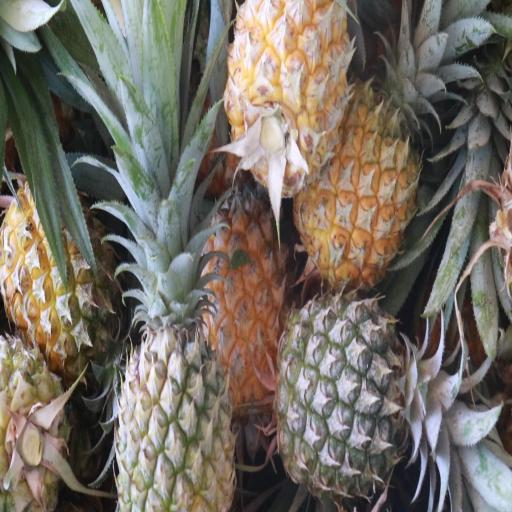------------------------------: (0, 175, 114, 362)
Pineapple - v8 v1: (296, 95, 418, 292), (223, 0, 346, 193), (198, 176, 287, 402)
